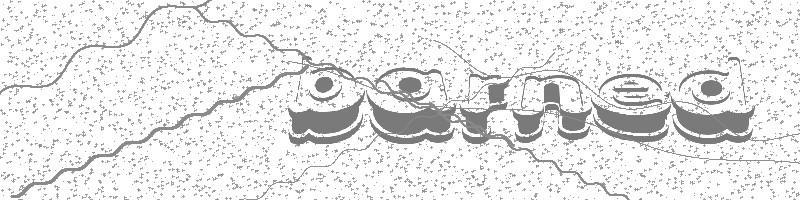a: (363, 66, 454, 146)
b: (287, 62, 363, 146)
d: (671, 58, 760, 143)
e: (591, 71, 674, 143)
n: (511, 68, 592, 147)
r: (458, 69, 511, 146)
